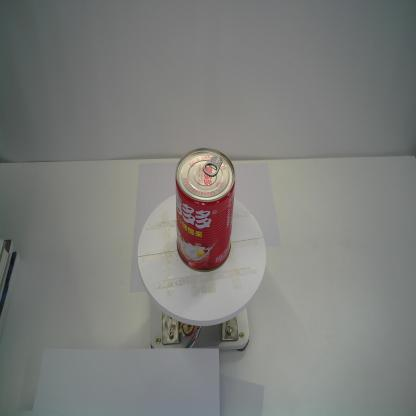Canned Food: (175, 146, 237, 275)
